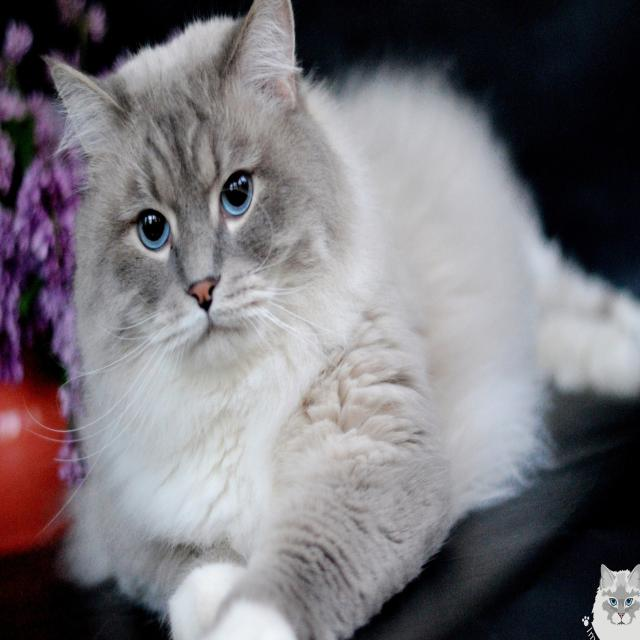Neva Masquerade: (45, 0, 640, 640)
